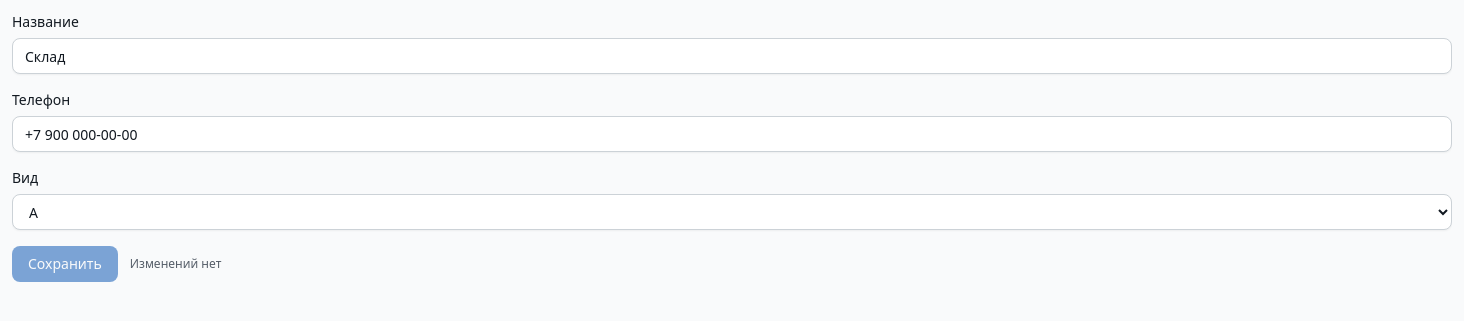
Scenario: форма правки (CLAUDE.md п. 5) › «Сохранено» — только после ответа сервера; ошибка сервера у поля со ссылкой на настройку
Type "5" into the field labelled "Телефон" at (732,134), box [12,116,1452,152]
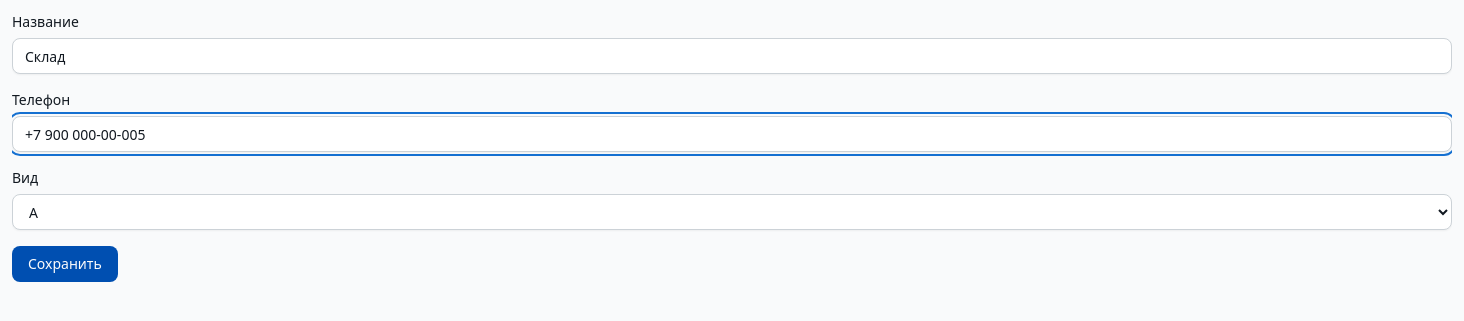
Click the button "Сохранить" at (65,264), box [12,246,118,282]
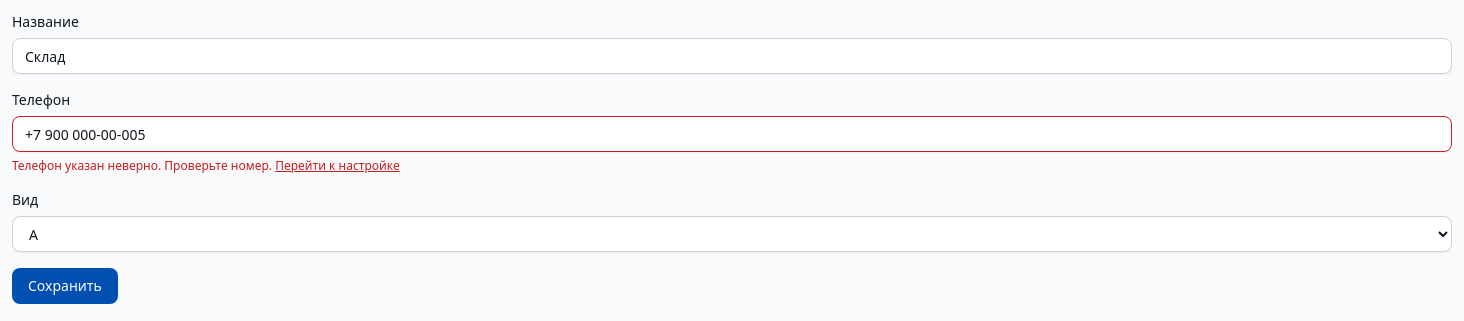
Expected: the text "Сохранено" is not shown
Now the message shows "Телефон указан неверно", box [12,157,272,174]
Click the button "Сохранить" at (65,286), box [12,268,118,304]
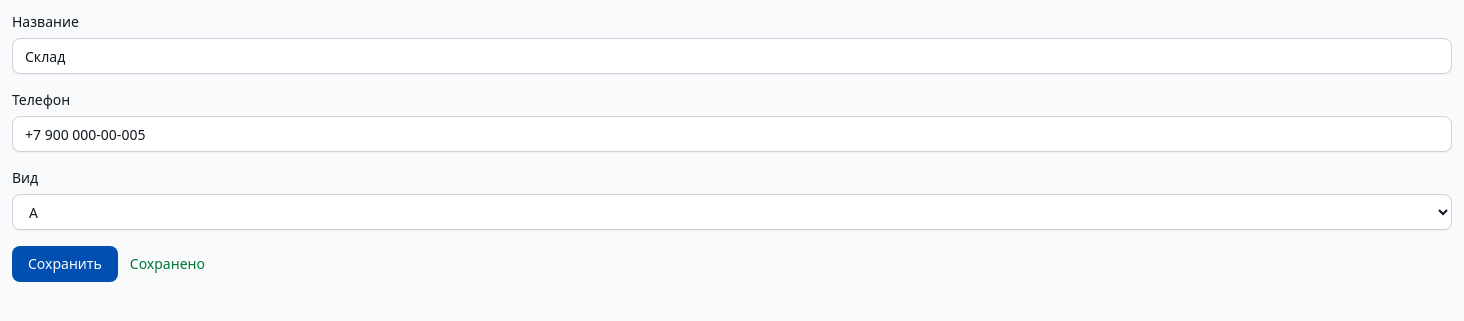
Now the text "Сохранено" is shown, box [130,254,205,274]
